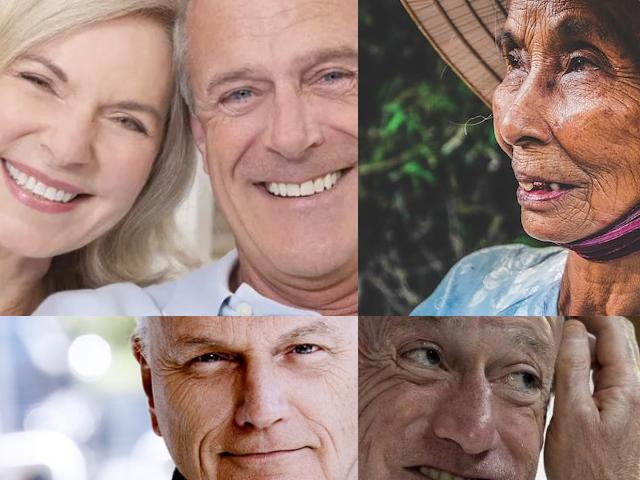chin: (562, 202, 596, 228)
crows_feet: (358, 333, 392, 388), (156, 352, 184, 389), (614, 60, 636, 96), (328, 335, 352, 361), (200, 100, 220, 126), (530, 404, 544, 440), (351, 69, 358, 98)
forehead: (480, 316, 552, 328), (284, 9, 318, 31), (516, 0, 569, 9), (179, 316, 228, 321), (261, 316, 280, 322)
frown_line: (525, 46, 549, 66), (524, 16, 542, 40)
gummy_smile: (304, 414, 342, 448), (544, 124, 572, 158), (230, 135, 252, 177), (190, 427, 208, 475), (333, 122, 358, 149), (12, 124, 38, 142)
masseter: (222, 186, 256, 234), (358, 398, 374, 458)
sad_smile: (585, 165, 623, 199)
smoker_lines: (512, 150, 538, 170)
